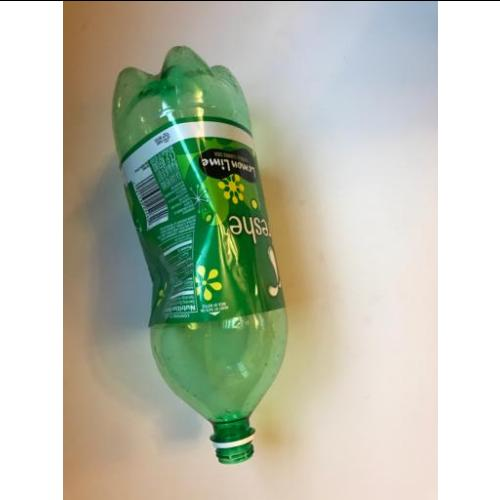plastic: (111, 45, 290, 463)
